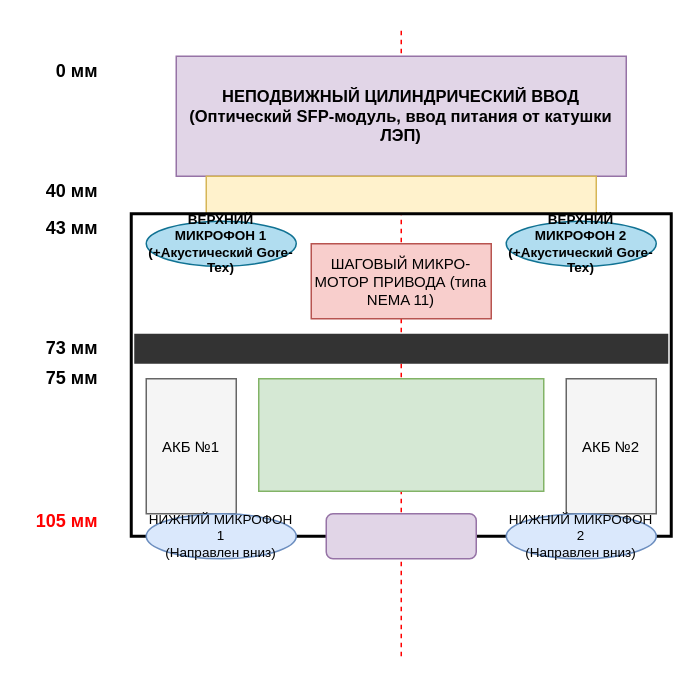
The diagram is 698 pixels wide and 684 high, and some of its shapes have lost their labels. The shapes that lost their labels are listed below. From the top down, each one's box as (x1, y1, x2, y2) in pixels, then its label:
(205, 175, 596, 214): УПОРНЫЙ ПОДШИПНИК И СКОЛЬЗЯЩИЙ КОНТАКТ (SLIP RING)
(134, 333, 668, 363): ВНУТРЕННЯЯ ЗВУКО-ВИБРОИЗОЛЯЦИОННАЯ ПЕРЕГОРОДКА
(257, 377, 544, 491): ГЛАВНАЯ ПЛАТА ОБРАБОТКИ ДАННЫХ [Синхронный захват 8 аудиоканалов]
(325, 512, 476, 559): МЕТЕОЧИП (Gore-Tex)
